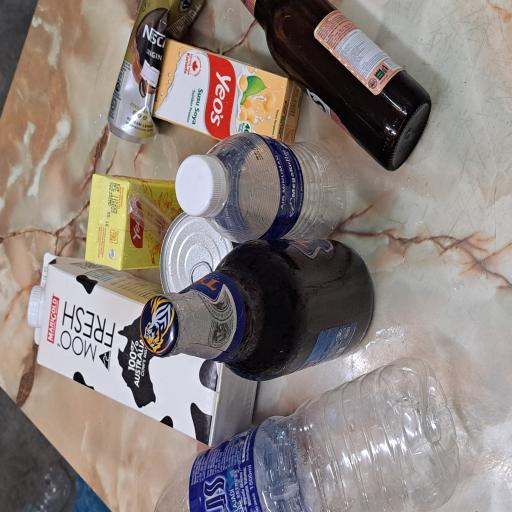can: (276, 143, 384, 275), (160, 212, 226, 316)
drink carton: (48, 43, 195, 346), (274, 202, 354, 404), (180, 112, 254, 245)
glass bottle: (98, 186, 206, 501), (255, 314, 384, 512)
plastic bottle: (0, 202, 118, 512), (200, 272, 286, 463)
plastic bottle cap: (222, 234, 269, 299), (138, 36, 170, 59)
pop tab: (170, 253, 188, 284)
